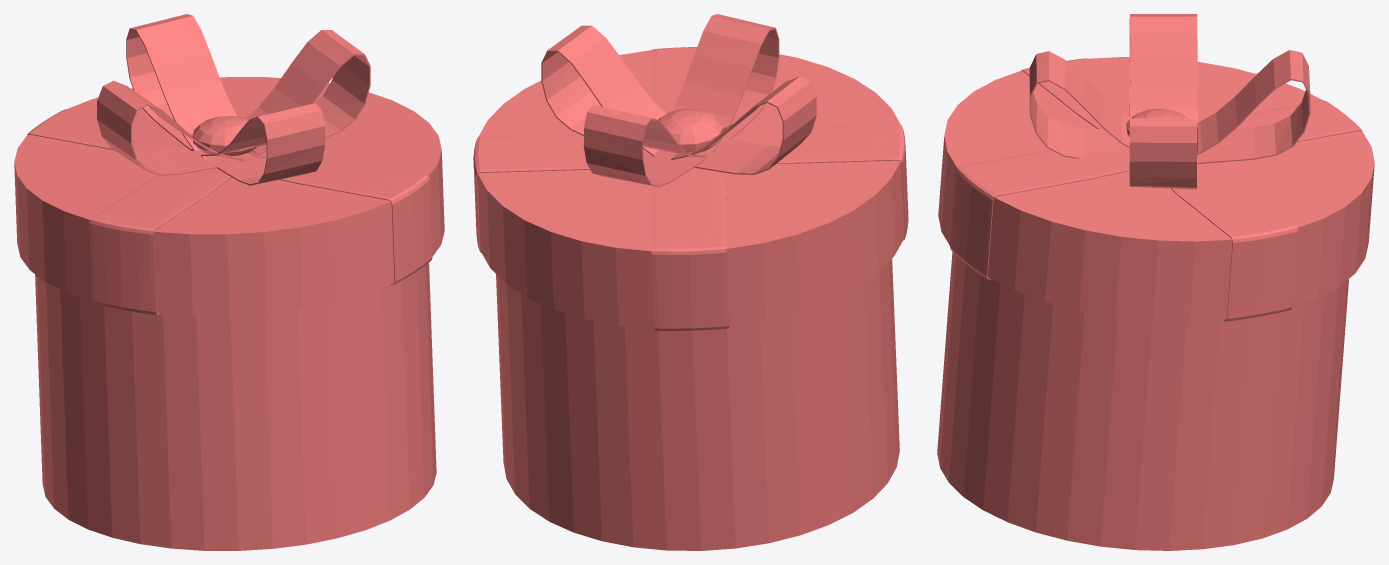
Rendered from gift_0.gltf.
The picture shows the model from 3 angles, left to right: view 1: azimuth 30°, elevation 25°; view 2: azimuth 150°, elevation 25°; view 3: azimuth 270°, elevation 25°; orthographic projection.
Visible parts, largest first — view 1: 圆盒子; view 2: 圆盒子; view 3: 圆盒子.
Part boxes in pixels (x1=…): 圆盒子: x1=14, y1=14, x2=444, y2=550; 圆盒子: x1=473, y1=14, x2=908, y2=550; 圆盒子: x1=937, y1=14, x2=1374, y2=550.
Bounding box in the file's own units: 78.06 × 82.83 × 79.15.
